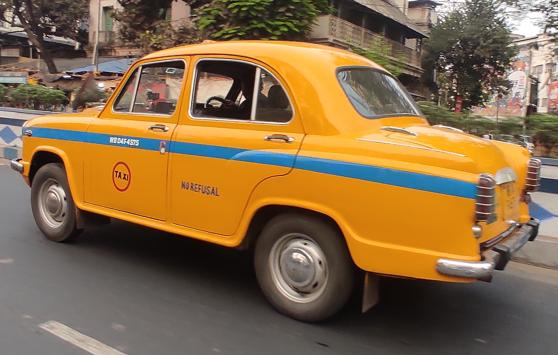Car: (5, 14, 541, 330)
